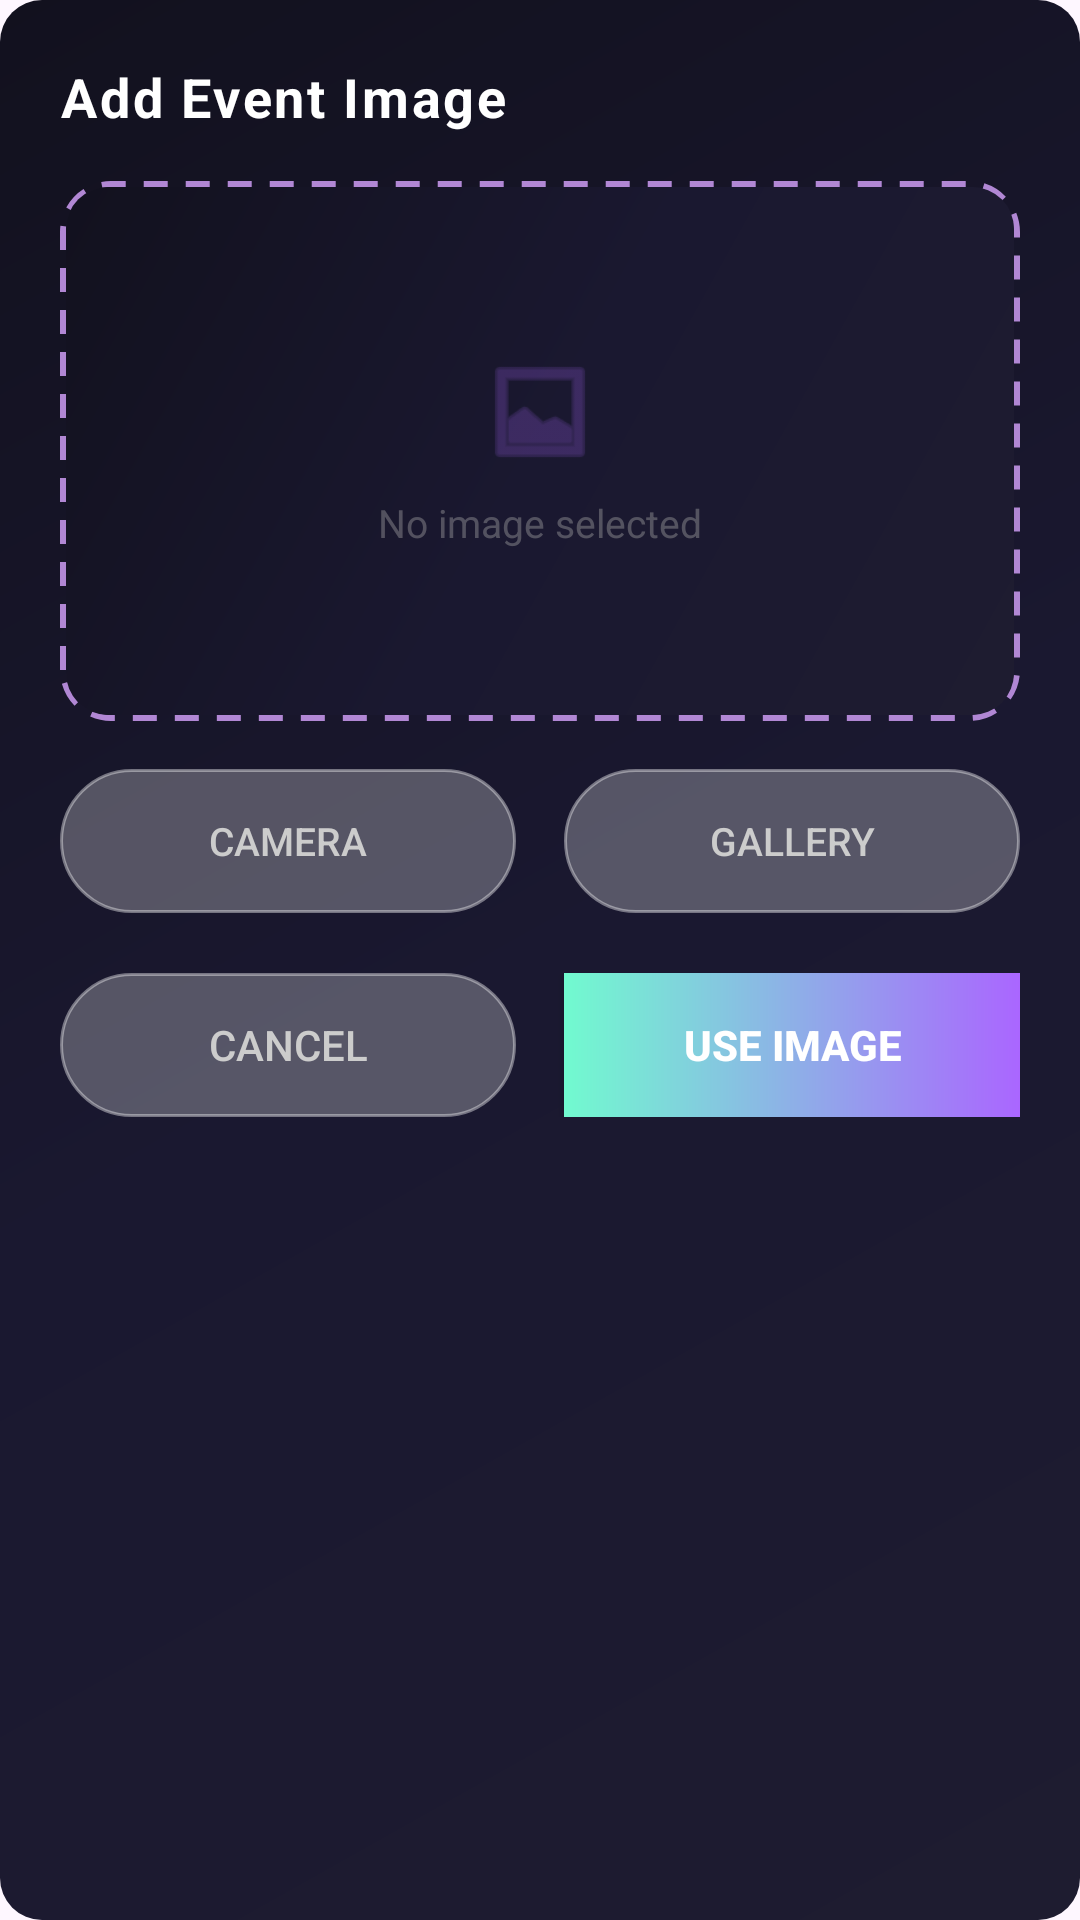

Screen size 1080w x 1920h. Icon name, then its center in pixels as [x,y]:
gallery: [540,412]
